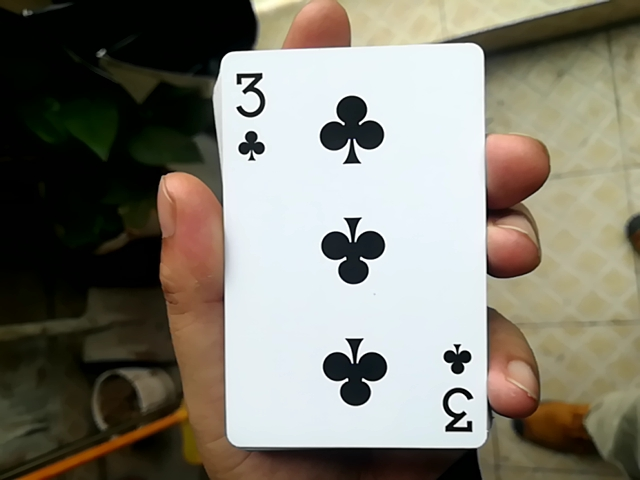mh 3: (206, 35, 491, 441)
